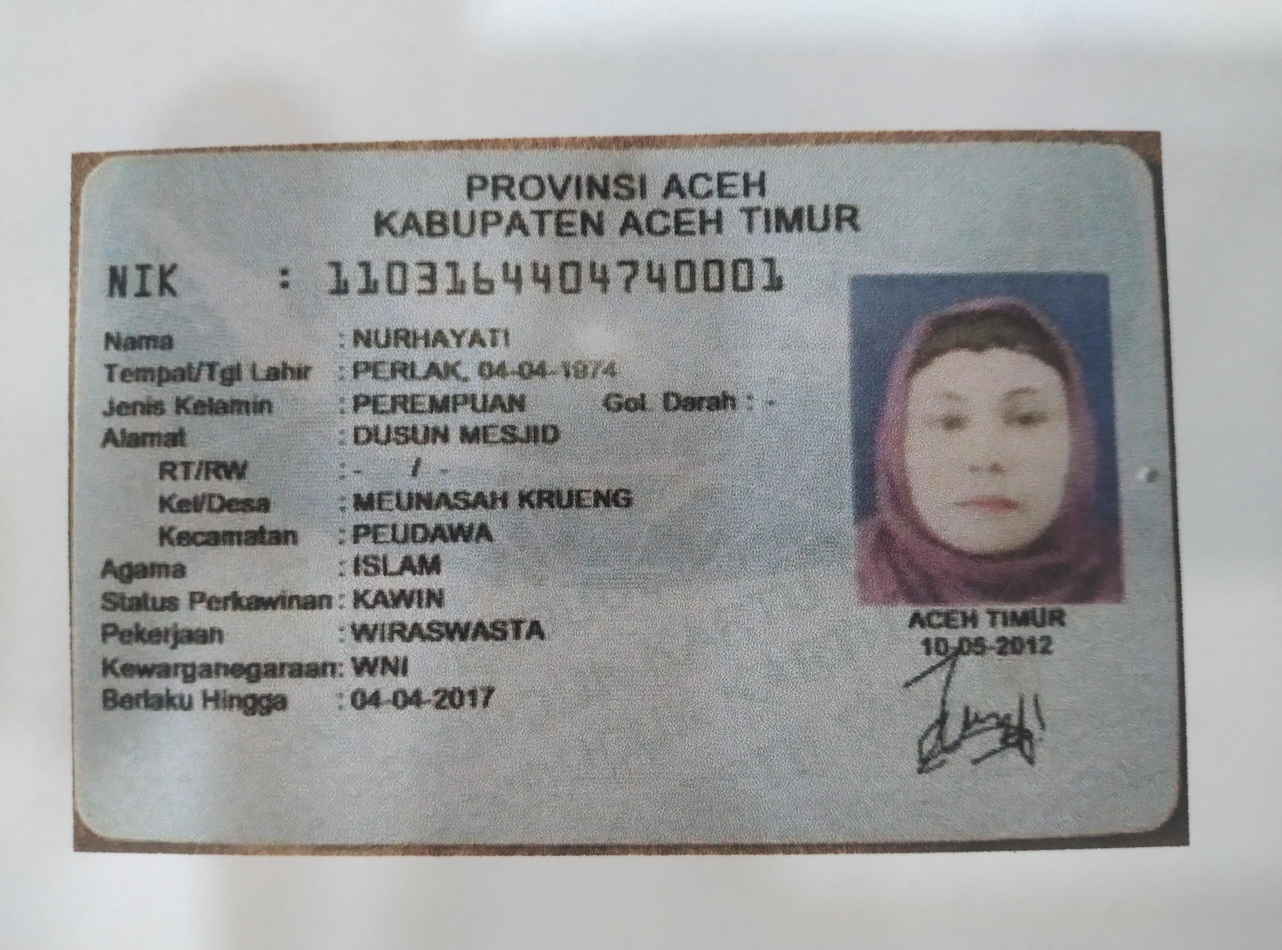ID-card: (89, 149, 1178, 826)
